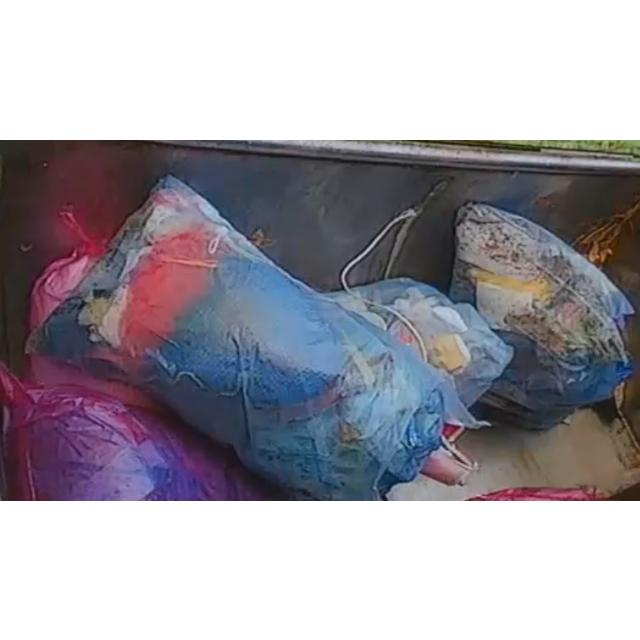other_trashbag: (29, 174, 478, 498), (449, 202, 634, 429), (0, 362, 269, 500), (326, 276, 514, 406), (25, 354, 164, 410), (29, 242, 99, 329)
